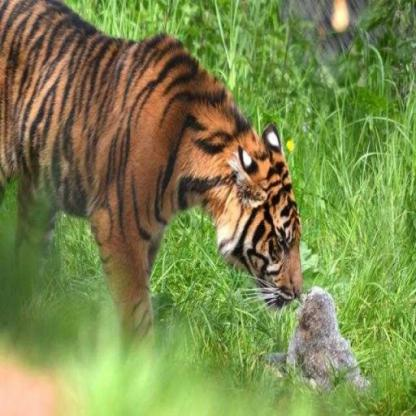Tiger: (1, 0, 350, 332)
